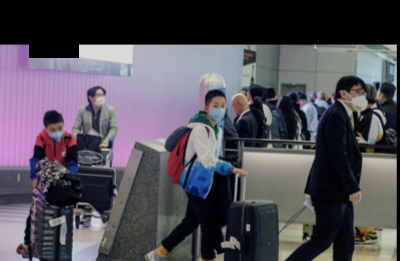with_mask: (346, 87, 368, 111), (209, 101, 226, 121), (45, 124, 63, 141), (92, 91, 106, 106)
